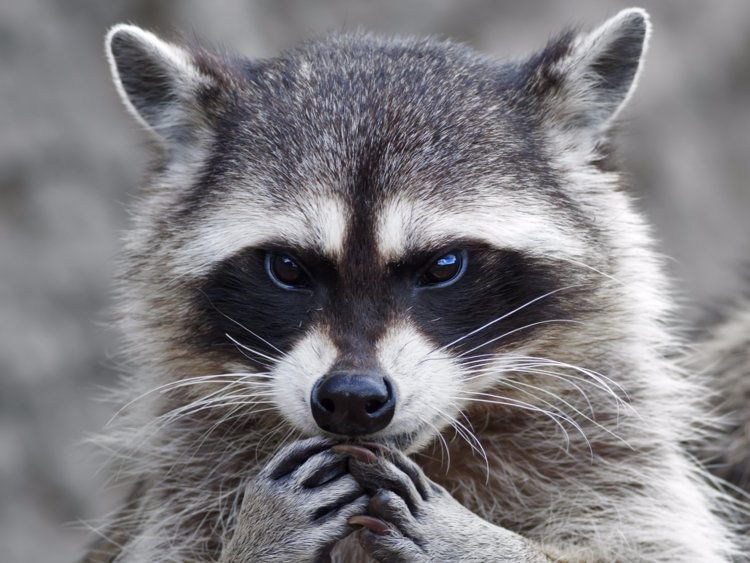raccoon: (90, 8, 702, 563)
